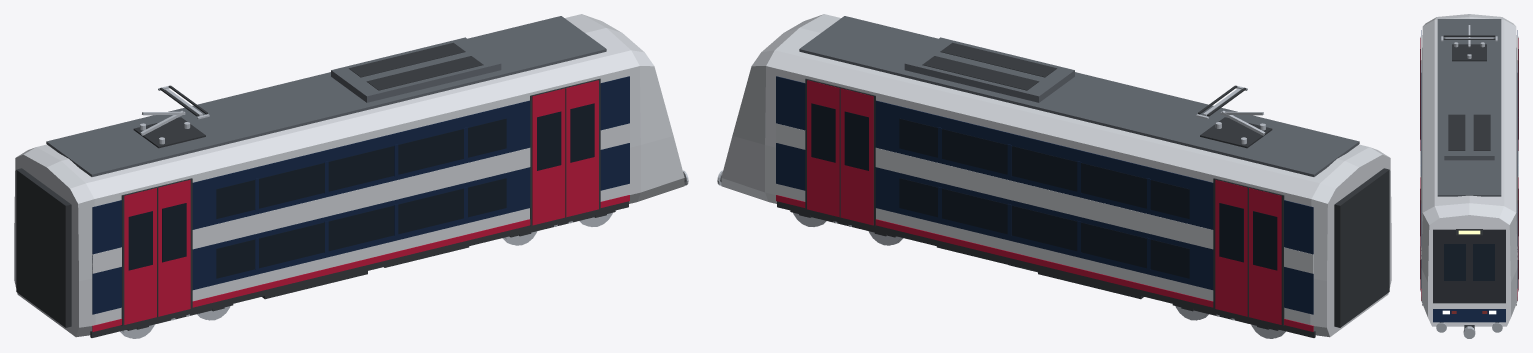
The model's file is rer_c_z2n__cab.glb.
The picture shows the model from 3 angles, left to right: view 1: azimuth 30°, elevation 25°; view 2: azimuth 150°, elevation 25°; view 3: azimuth 270°, elevation 25°; orthographic projection. The views are drawn at different scales.
Visible parts, largest first — view 1: rer_c_z2n_cab; view 2: rer_c_z2n_cab; view 3: rer_c_z2n_cab.
Boxes of the visible parts, left/top/right/bottom form: rer_c_z2n_cab: left=14, top=14, right=688, bottom=338; rer_c_z2n_cab: left=717, top=14, right=1391, bottom=338; rer_c_z2n_cab: left=1420, top=14, right=1518, bottom=338.
Size of the model in its own units: 15.37 by 4.88 by 2.97.
